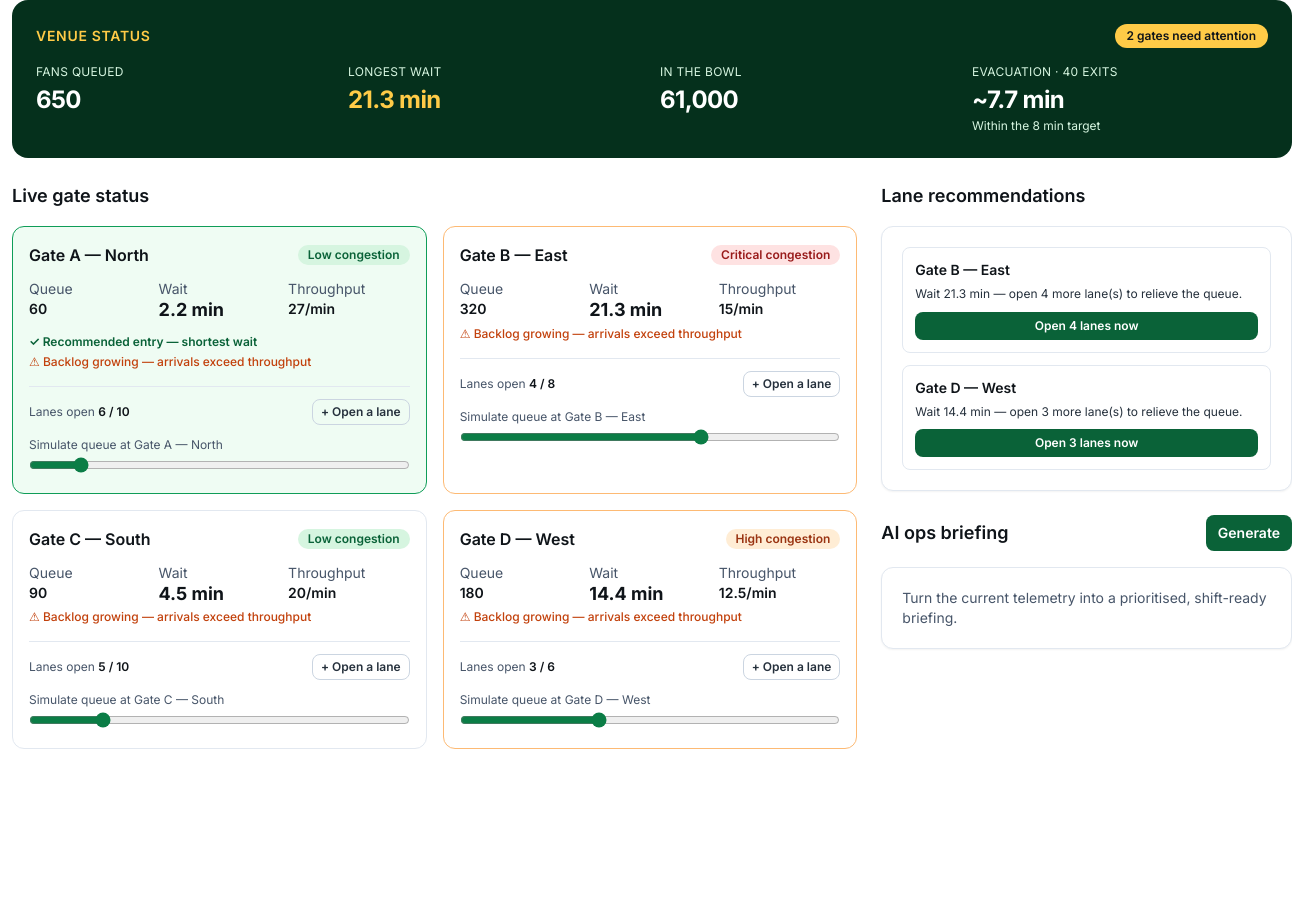
Test: OpsDashboard — acting on recommendations › advises redirecting once a gate is surging at full staffing
The width and height of the screenshot is (1304, 900).
Click the button "Open 4 lanes now". click: (1087, 326)
box: [915,312,1258,340]
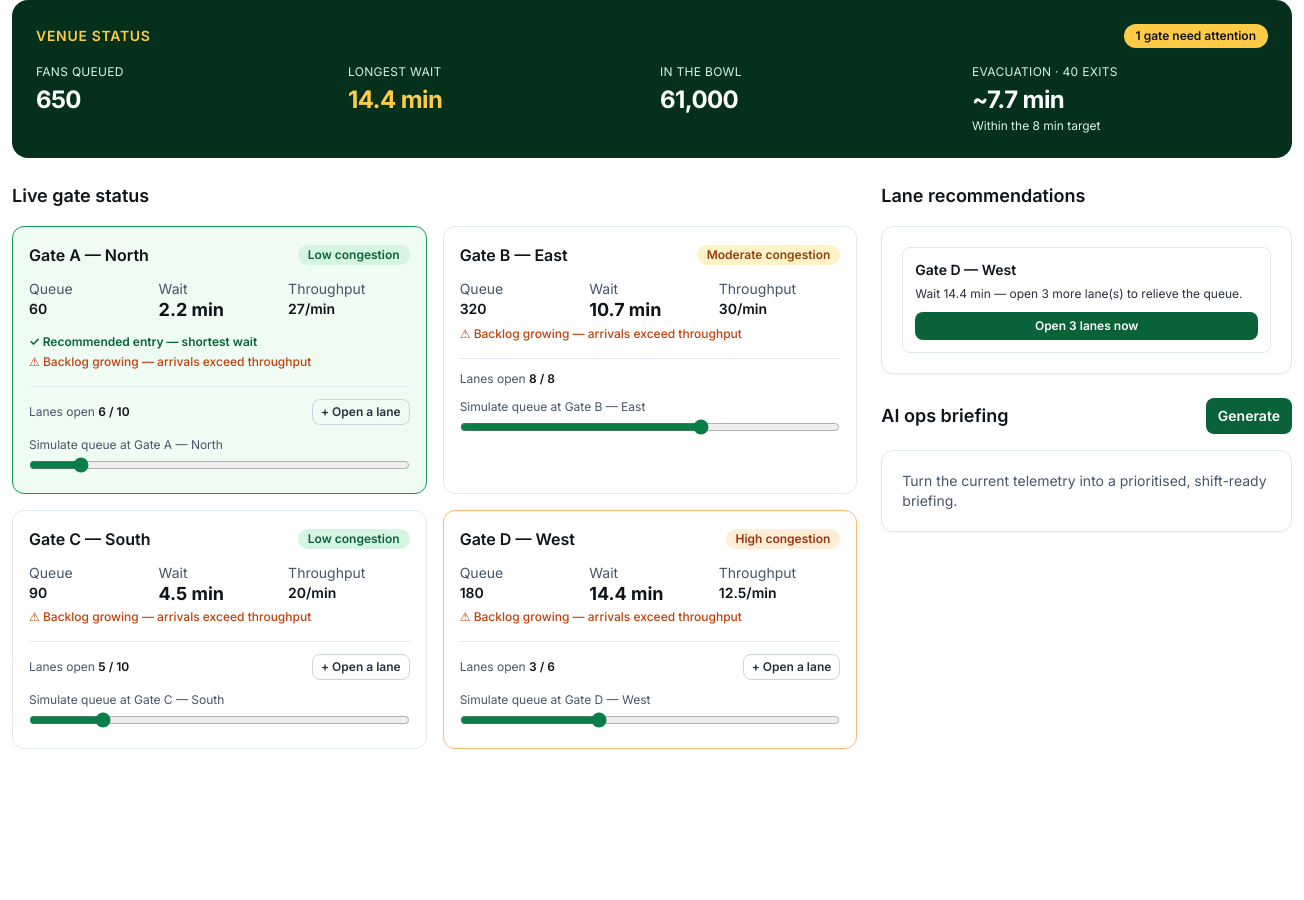
Set the slider named "queue length at gate b" to "500". click: (832, 426)
box: [460,418,840,434]
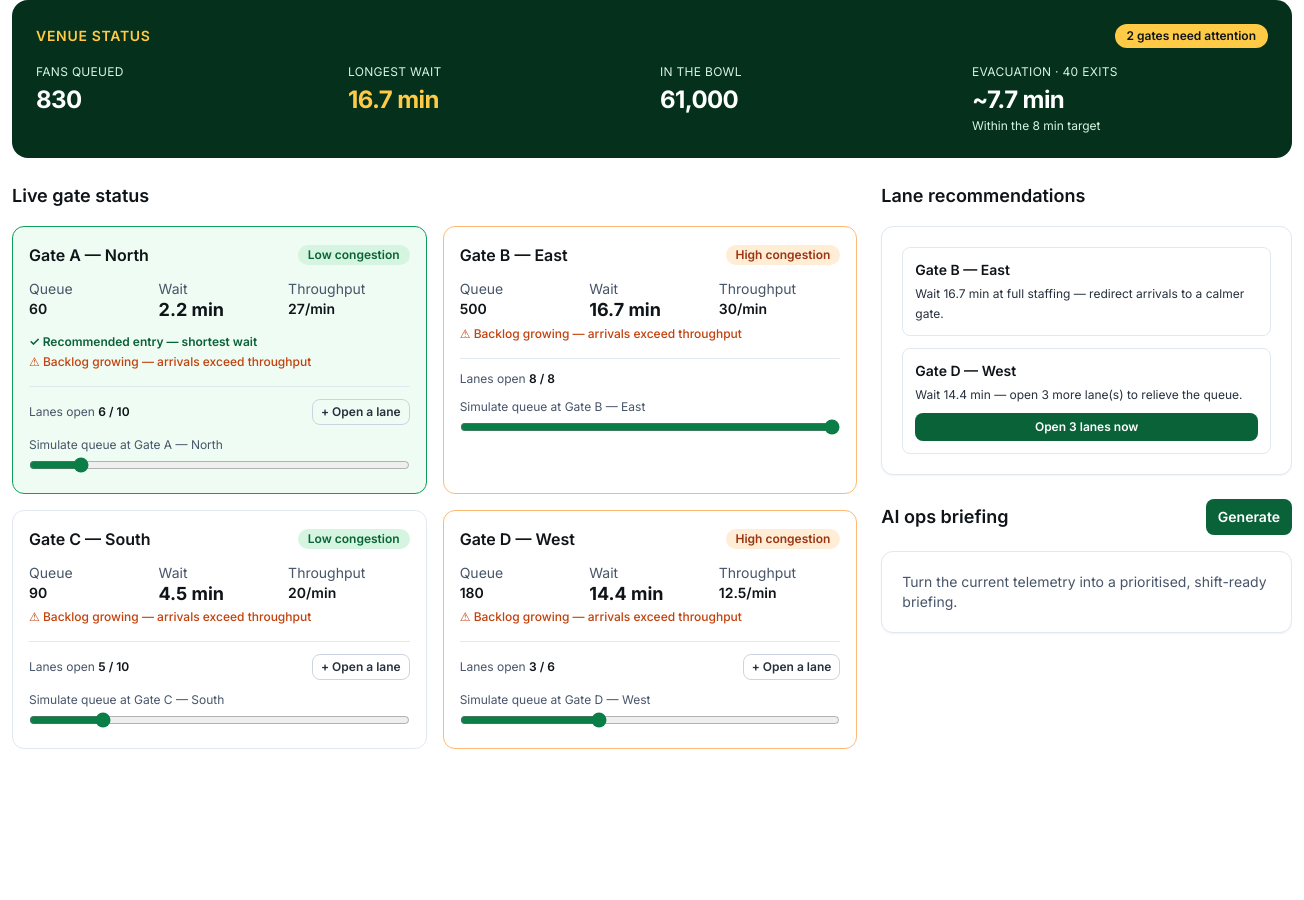
Now the text "redirect" is shown, box [915,286,1244,320]
